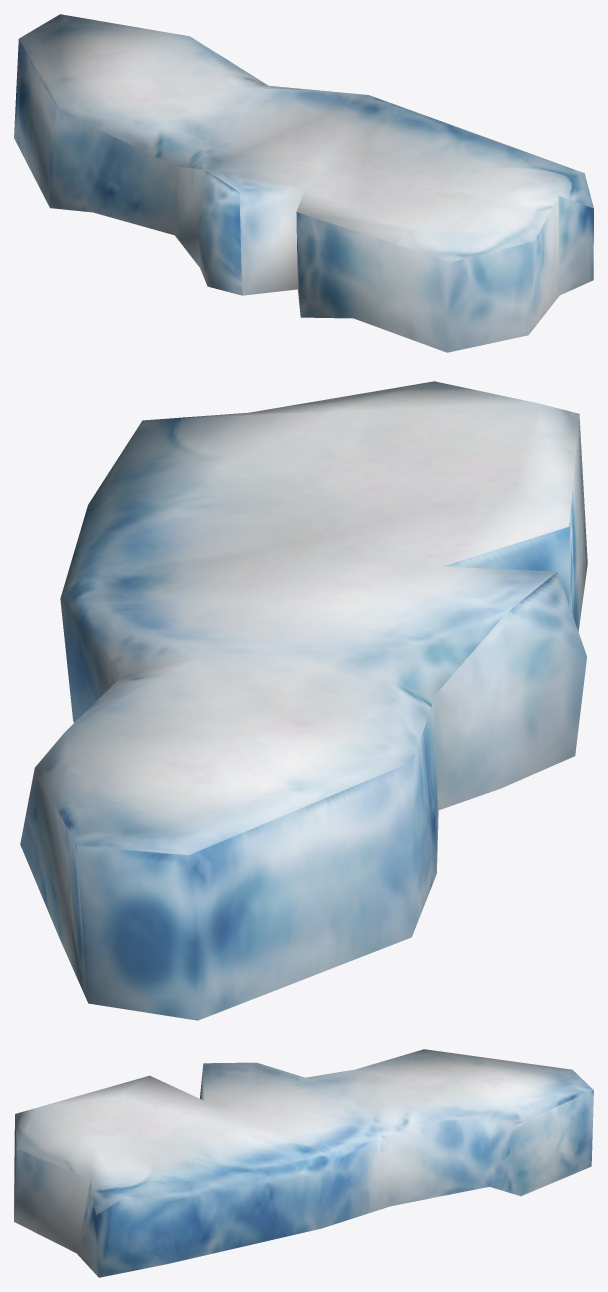
Rendered from SM_stoneA_10.fbx.
The picture shows the model from 3 angles, top to bottom: view 1: azimuth 30°, elevation 25°; view 2: azimuth 150°, elevation 25°; view 3: azimuth 270°, elevation 25°; orthographic projection. The views are drawn at different scales.
Parts seen in each view (by area): view 1: SM_stoneA_10; view 2: SM_stoneA_10; view 3: SM_stoneA_10.
Boxes of the visible parts, x1,y1,x2,y2 form: SM_stoneA_10: (14, 14, 593, 352); SM_stoneA_10: (20, 381, 587, 1020); SM_stoneA_10: (14, 1049, 593, 1277).
Bounding box in the file's own units: 9.52 × 3 × 16.42.
